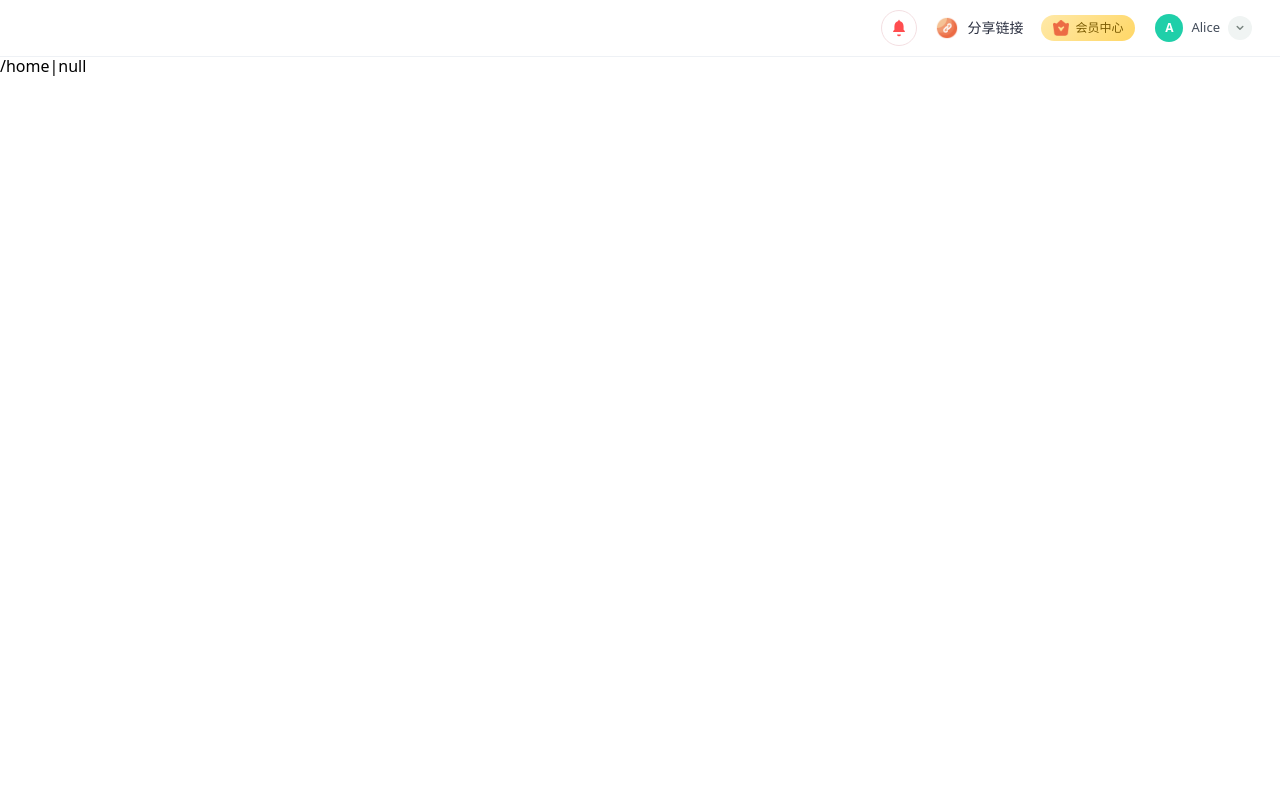
Test: AppTopbar › keeps the personal panel mounted while confirming a team rename outside it
The image size is (1280, 800).
Click the button "A Alice": [1203, 28] box left=1147, top=9, right=1258, bottom=47
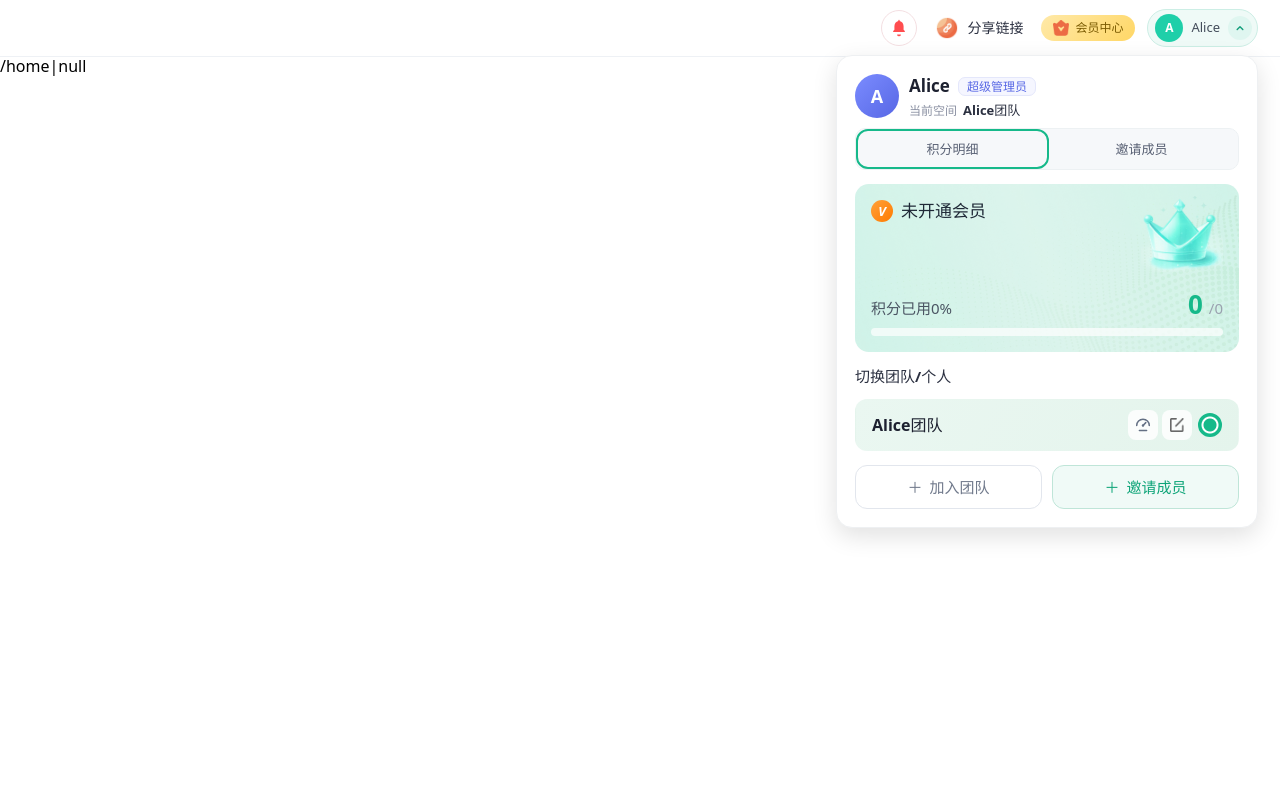
Click the button named "重命名团队 Alice团队": [1177, 425] box left=1162, top=410, right=1192, bottom=440
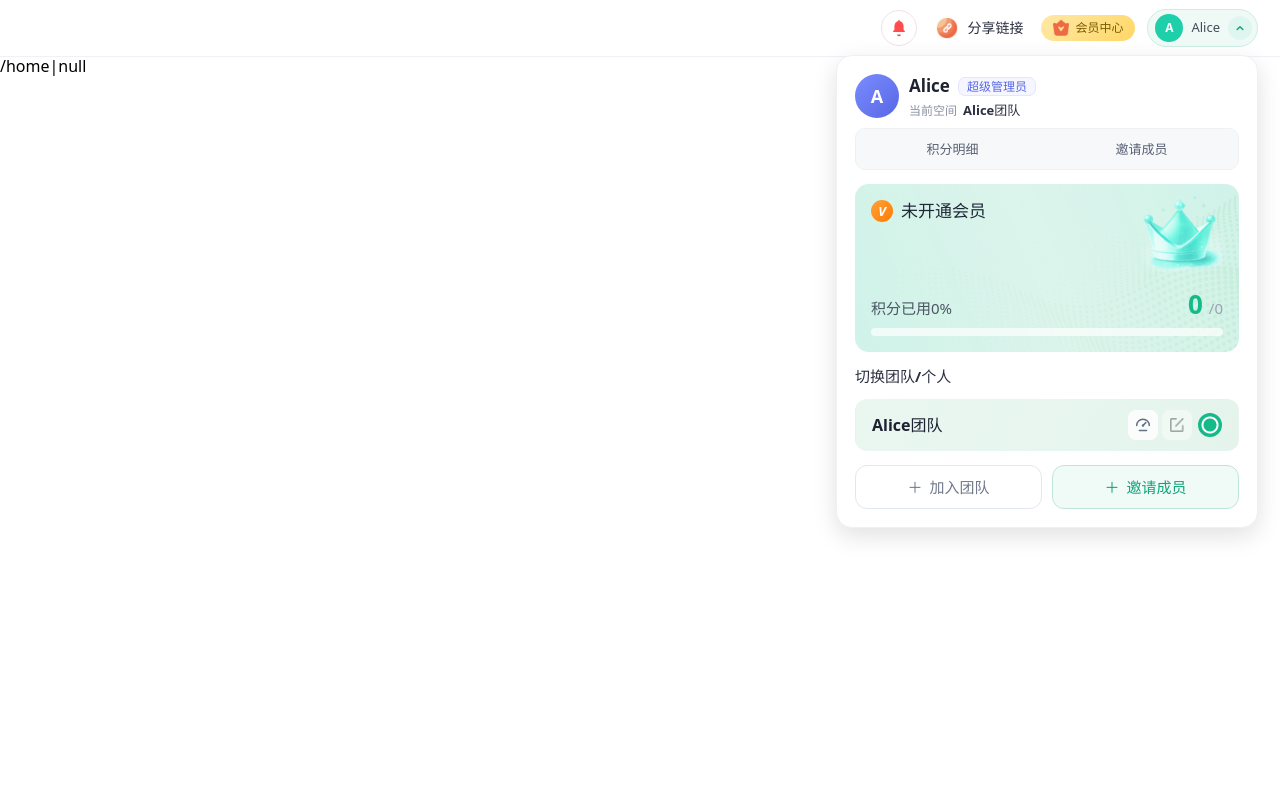
// 全局确认框位于 portal 面板之外，输入、保存及 Escape 不能卸载发起重命名的组件。
Press the mouse on the element that starts with "分享链接": [640, 400] box left=0, top=0, right=1279, bottom=799
Press Escape
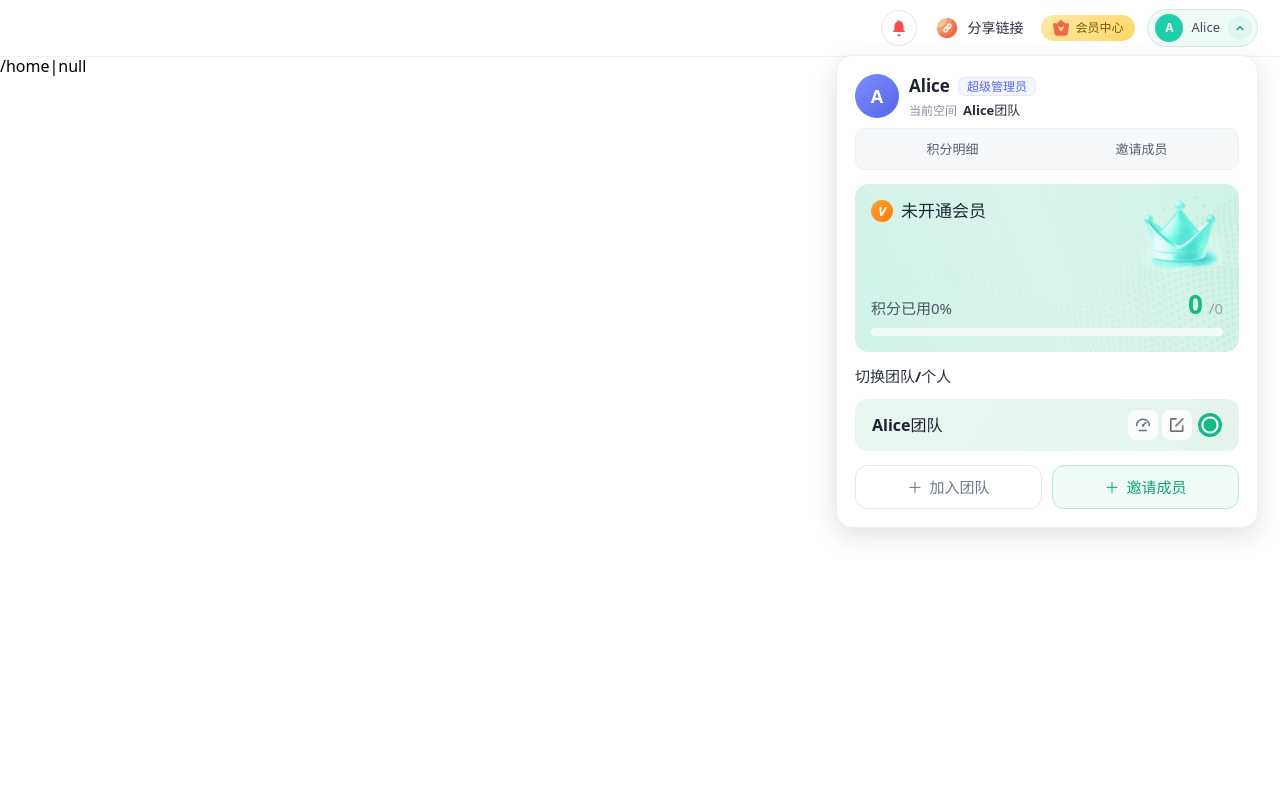
Check: the dialog named "用户面板" is shown, box left=836, top=55, right=1258, bottom=528
Press the mouse on the element that starts with "分享链接": [640, 400] box left=0, top=0, right=1279, bottom=799
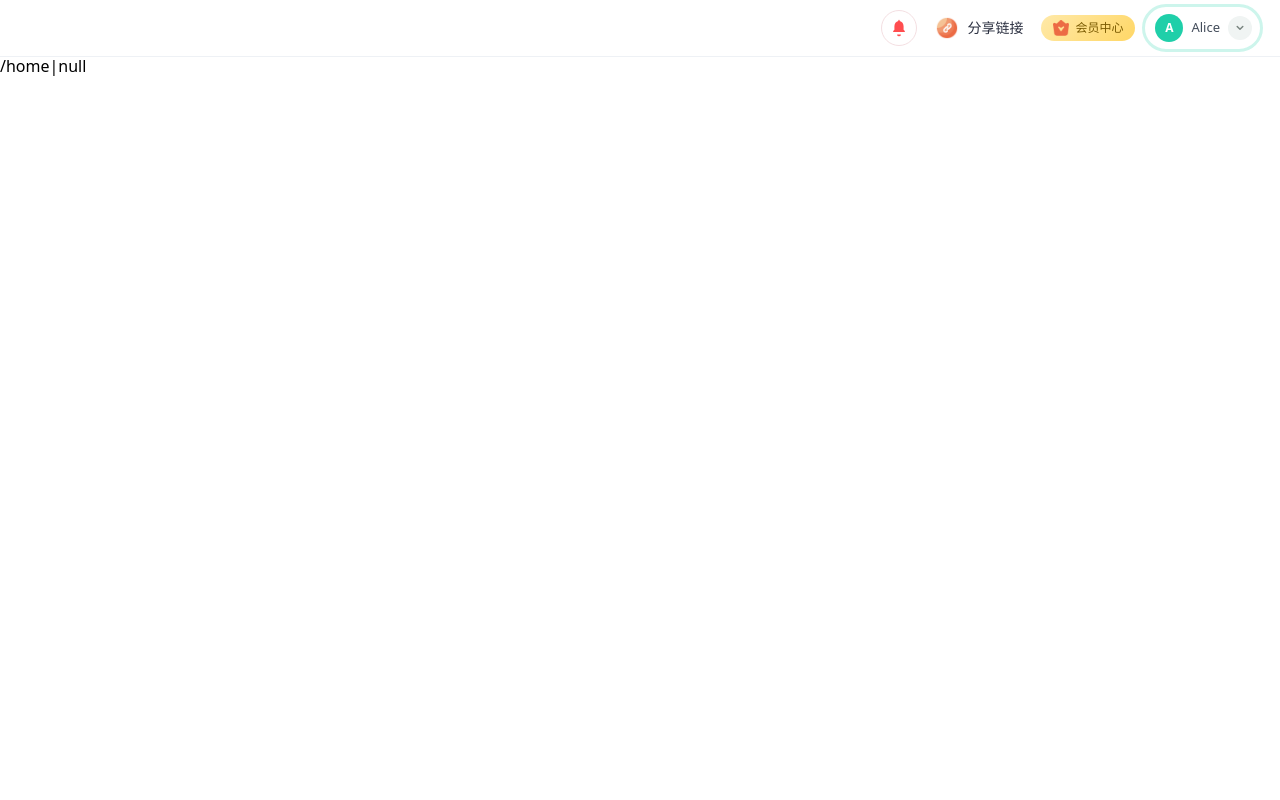
Check: the dialog "用户面板" is gone
